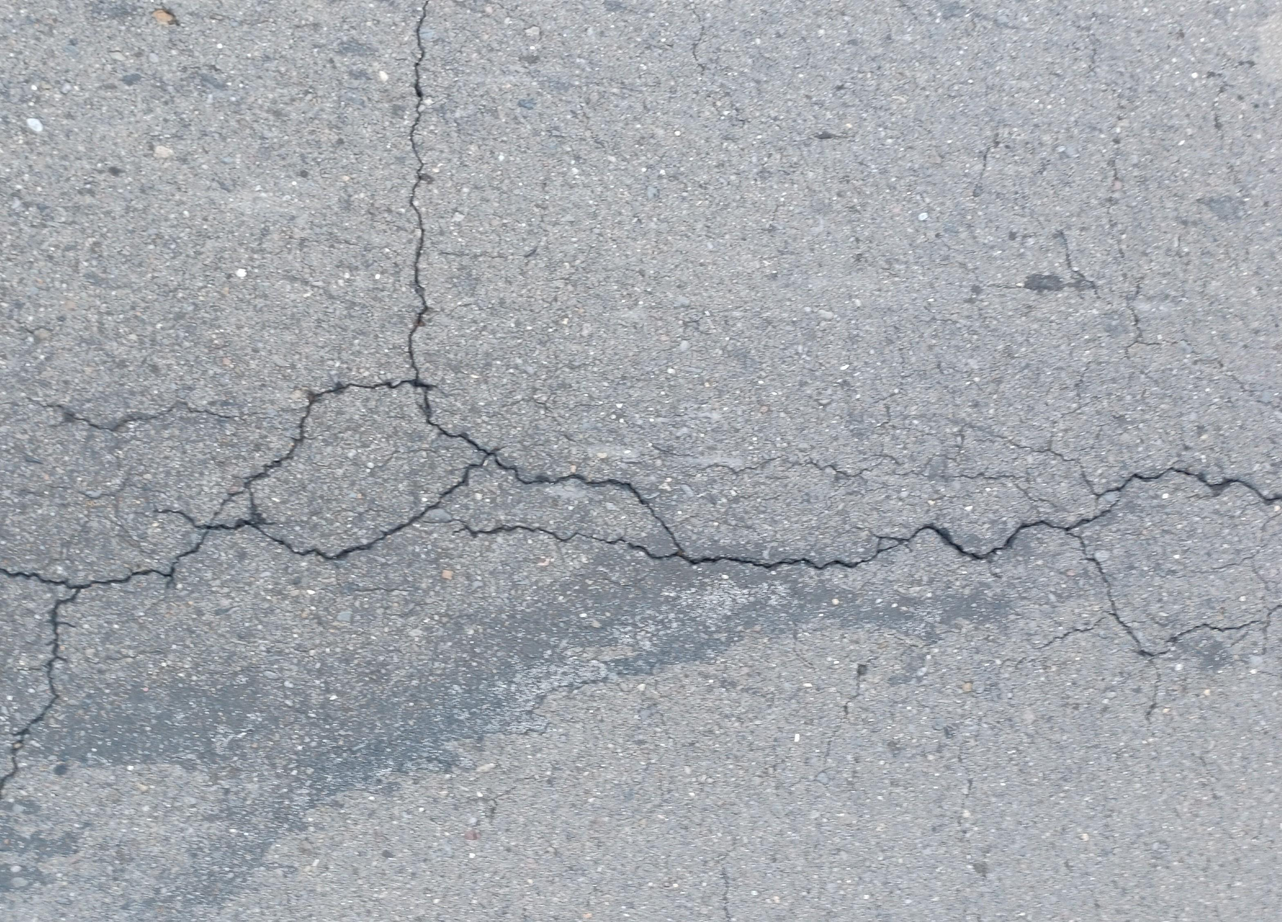GRIETA: (676, 463, 1282, 573), (0, 589, 82, 791), (0, 530, 210, 589), (407, 2, 432, 382)
PIEL DE COCODRILO: (34, 377, 701, 586), (697, 270, 1177, 523), (970, 523, 1280, 749)
